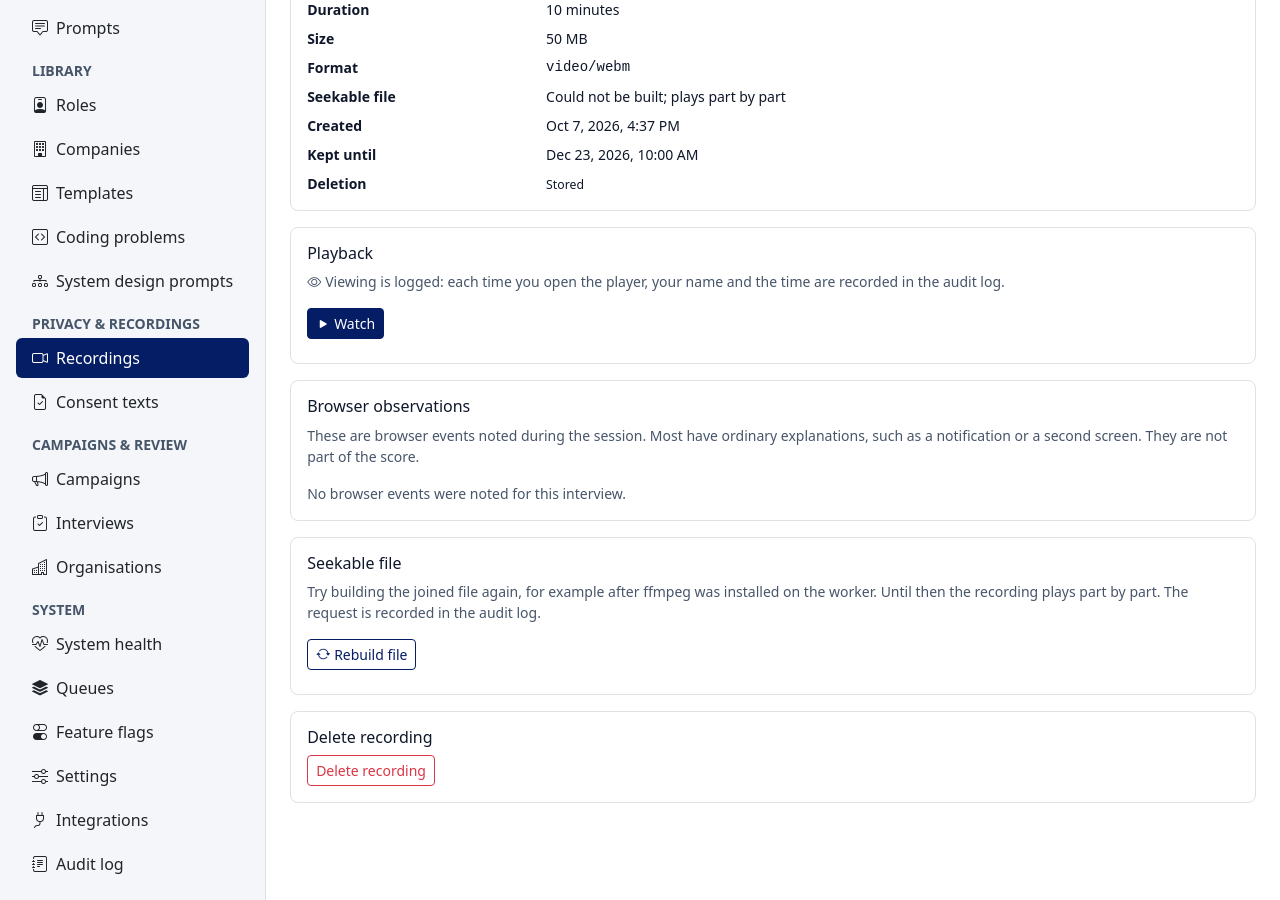
Scenario: recordings › rebuilds the seekable file on request
(page scrolled)
What coordinates should you click on to do the following:
click the button "Rebuild file"
I would click on:
 (362, 654)
Its box is [307,639,416,670].
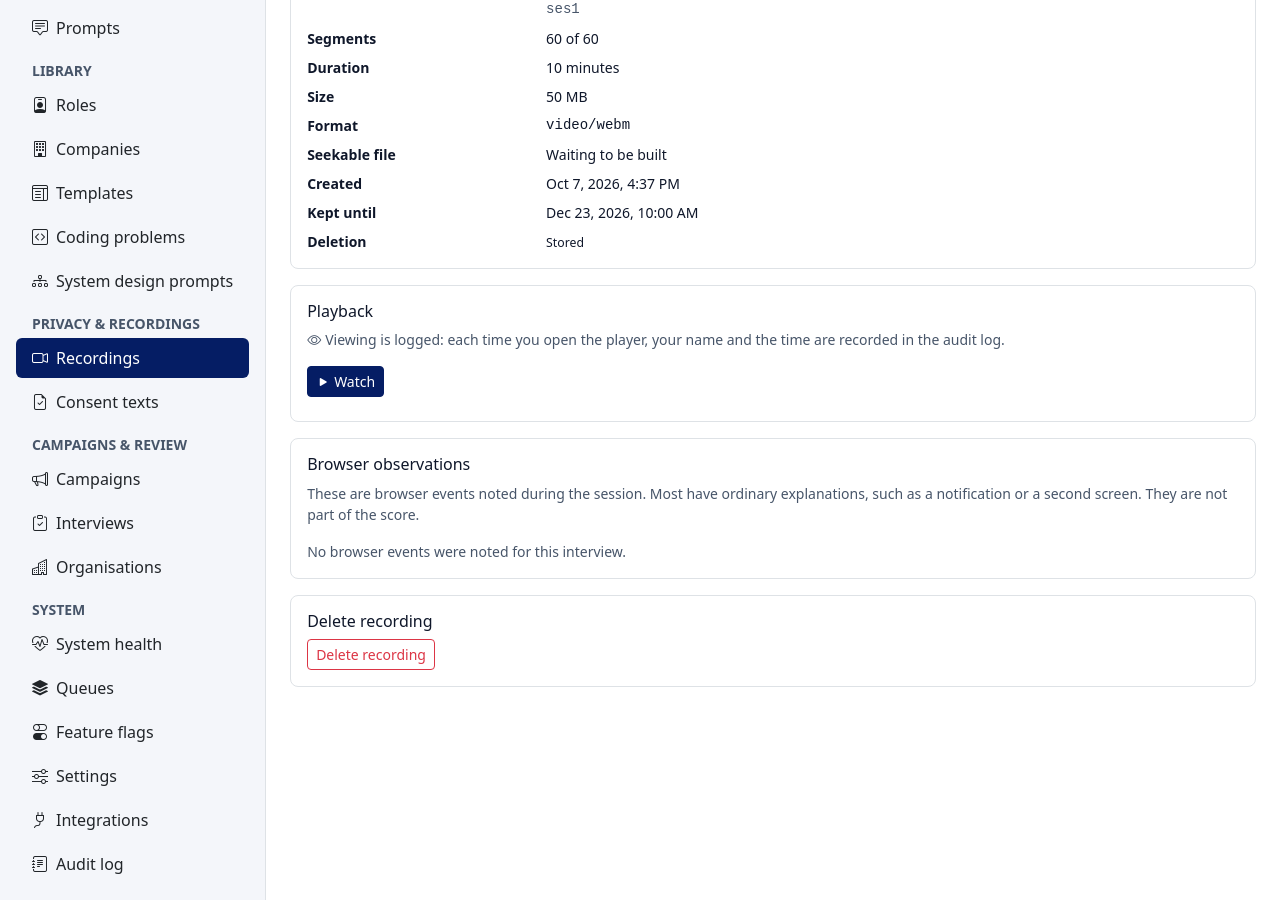
Expected: the text "Waiting to be built" is shown, [546,145,667,164]
Expected: the button "Rebuild file" is gone
